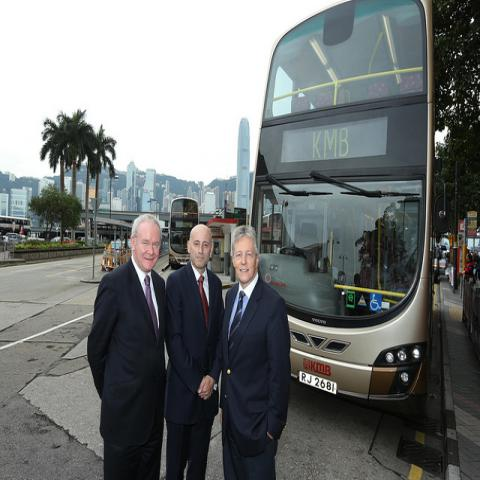bus: (248, 0, 480, 406), (168, 196, 199, 272)
car: (20, 235, 29, 242)
